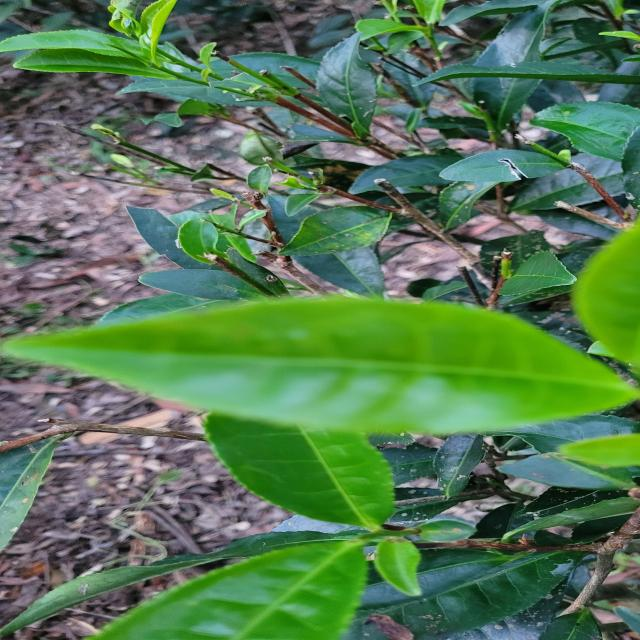Catagory A(1-2 days): (0, 270, 638, 462)
